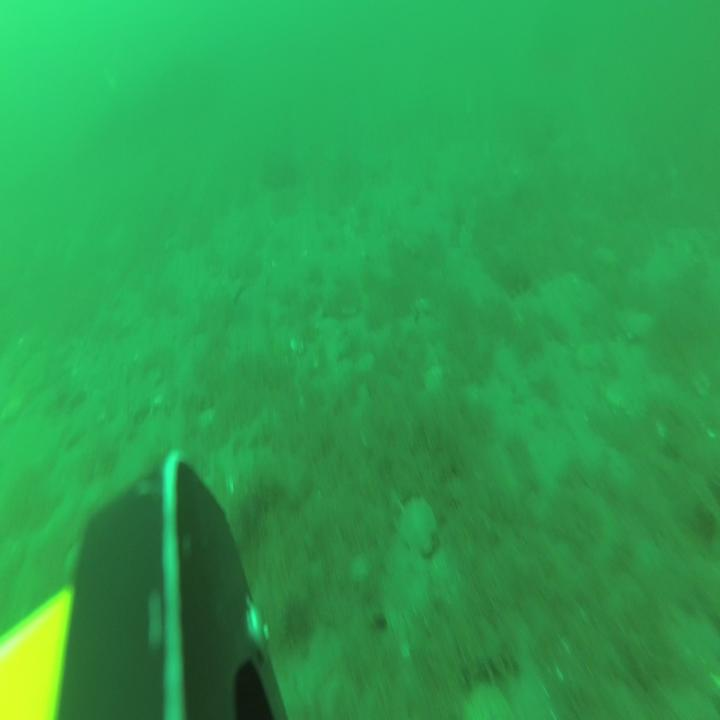scallop: (398, 492, 440, 562)
